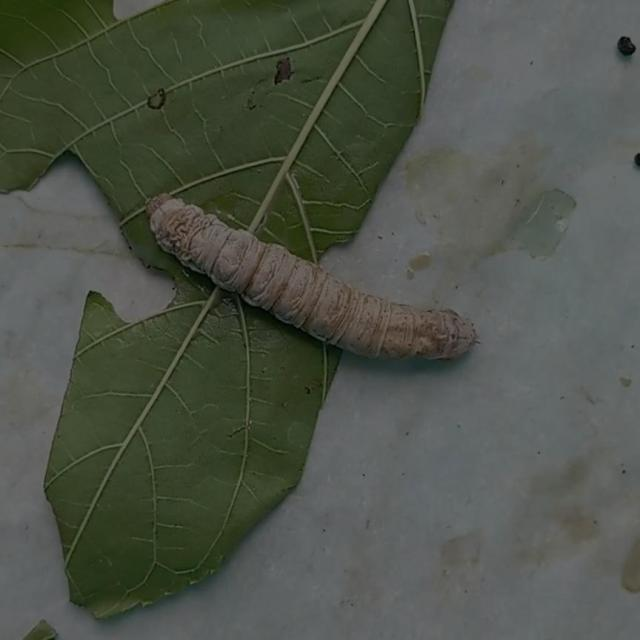Grasserie: (138, 183, 484, 390)
